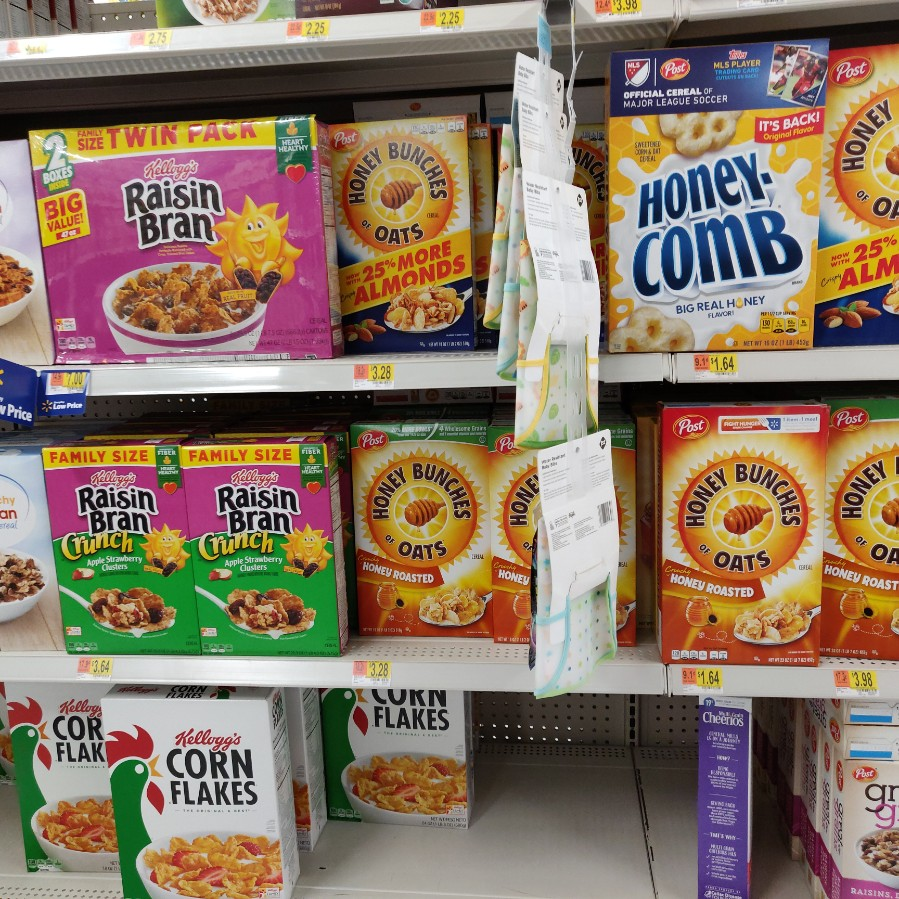Honey Comb- 009288857: (609, 49, 822, 347)
